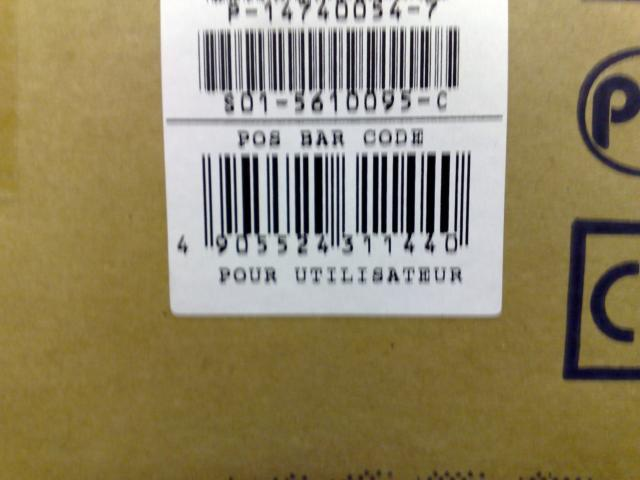Barcode: (171, 146, 499, 262), (174, 9, 495, 116)
